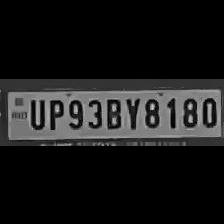0: (198, 93, 218, 126)
1: (162, 94, 178, 128)
3: (84, 94, 104, 128)
8: (140, 94, 160, 128), (179, 93, 199, 127)
9: (64, 96, 84, 128)
B: (102, 94, 122, 130)
P: (44, 95, 64, 129)
U: (25, 95, 45, 129)
Y: (122, 93, 142, 129)
